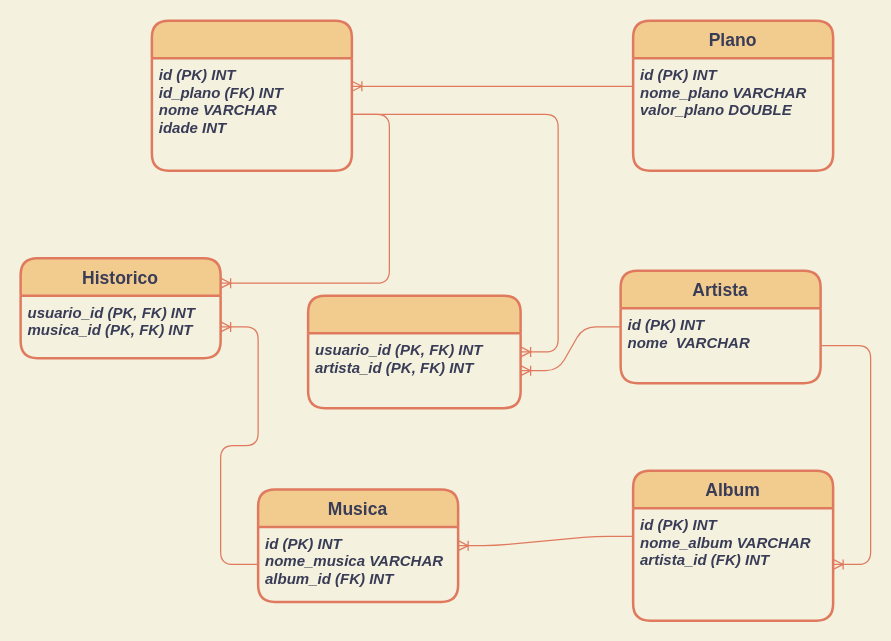
Image size: 891x641. Some labels were removed from this diagram. The box of each missing label's shape, as (x1, y1, x2, y2) in pixels:
Seguindo: (306, 294, 521, 409)
Usuario: (150, 19, 352, 171)
